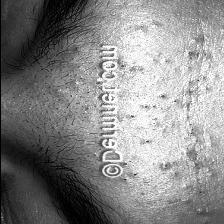Non-Cancerous Skin Condition: (125, 0, 224, 224)
